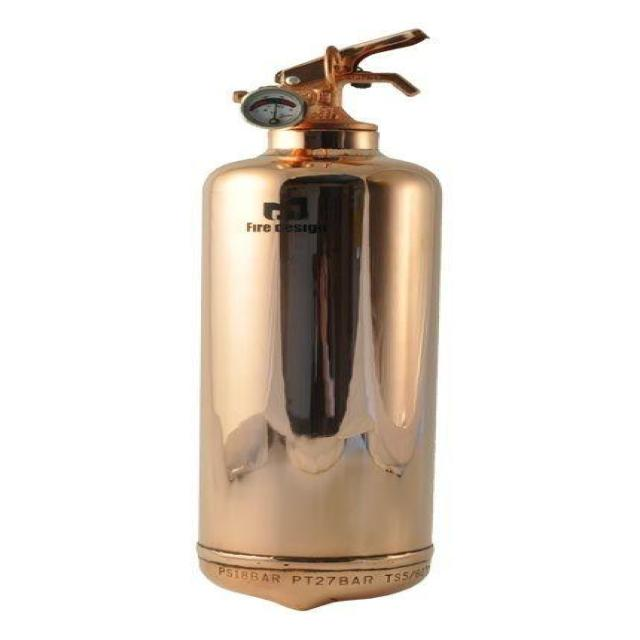fire_extinguisher: (190, 21, 457, 613)
